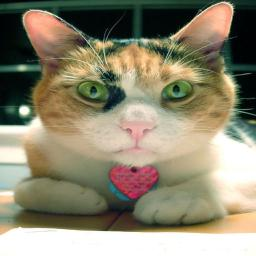catnose: (119, 121, 156, 142)
